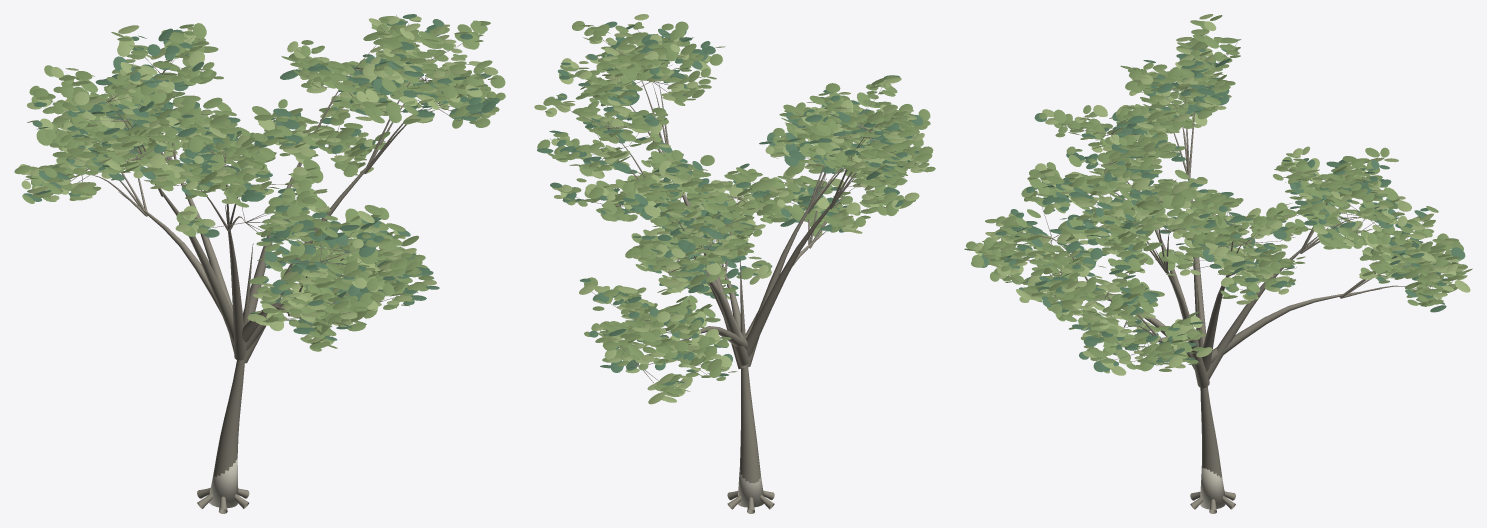
The model's file is tree1c.glb.
3 views of the same model, side by side, from view 1: azimuth 30°, elevation 25°; view 2: azimuth 150°, elevation 25°; view 3: azimuth 270°, elevation 25° (orthographic). The views are drawn at different scales.
Visible parts, largest first — view 1: Tree1c_Leaf, Tree1c_LeafLight, Tree1c_LeafDark, Tree1c_Trunk, Tree1c_BarkLight; view 2: Tree1c_Leaf, Tree1c_LeafLight, Tree1c_LeafDark, Tree1c_Trunk, Tree1c_BarkLight; view 3: Tree1c_Leaf, Tree1c_LeafLight, Tree1c_LeafDark, Tree1c_Trunk, Tree1c_BarkLight.
Part boxes in pixels (box(x1,y1,x2,y2)): Tree1c_Leaf: box(14, 16, 505, 351); Tree1c_LeafLight: box(19, 16, 498, 344); Tree1c_LeafDark: box(23, 14, 499, 340); Tree1c_Trunk: box(28, 15, 486, 513); Tree1c_BarkLight: box(209, 458, 238, 508); Tree1c_Leaf: box(537, 21, 935, 400); Tree1c_LeafLight: box(534, 14, 926, 404); Tree1c_LeafDark: box(537, 21, 924, 385); Tree1c_Trunk: box(545, 26, 928, 513); Tree1c_BarkLight: box(738, 470, 763, 507); Tree1c_Leaf: box(964, 15, 1467, 373); Tree1c_LeafLight: box(970, 14, 1472, 375); Tree1c_LeafDark: box(981, 46, 1465, 372); Tree1c_Trunk: box(976, 34, 1454, 513); Tree1c_BarkLight: box(1200, 468, 1225, 509).
Size of the model in its own units: 12.21 by 13.35 by 14.72.
